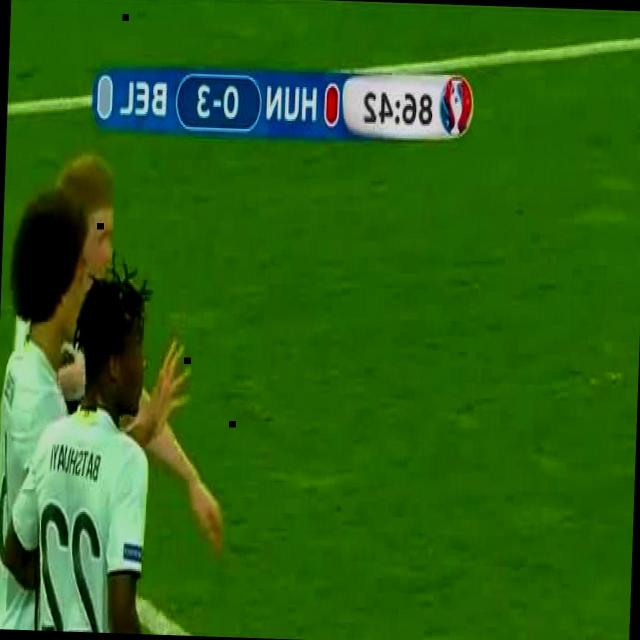player-white: (0, 149, 235, 637), (0, 182, 196, 635), (0, 248, 186, 635)
